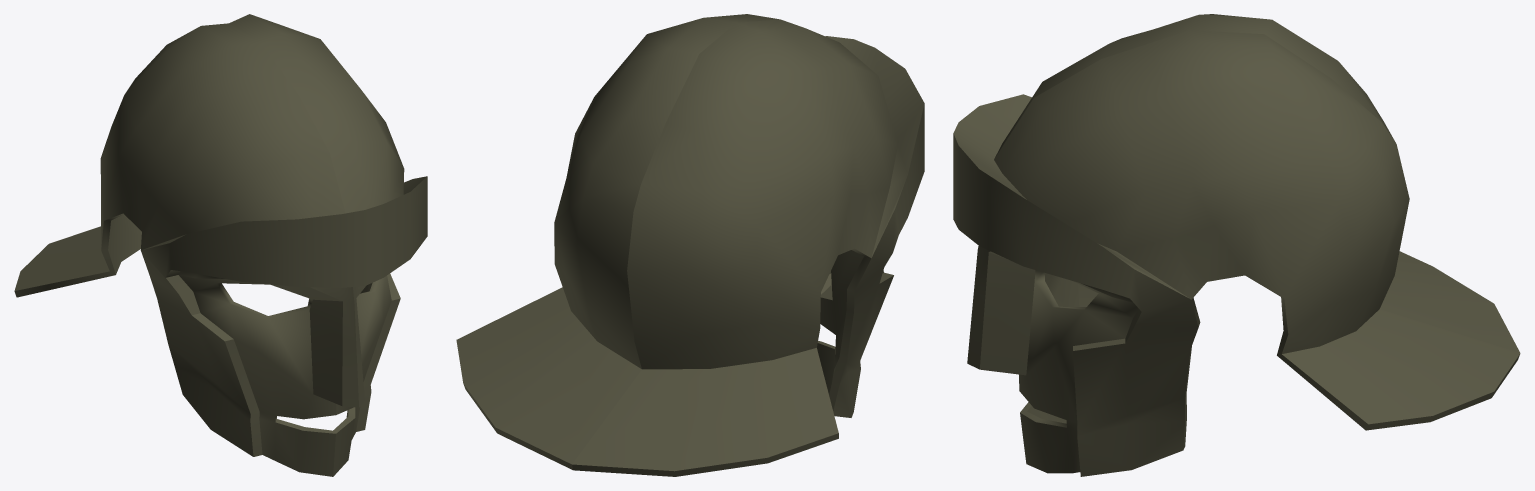
File: Helmet_1.fbx
3 renders of one model, left to right at view 1: azimuth 30°, elevation 25°; view 2: azimuth 150°, elevation 25°; view 3: azimuth 270°, elevation 25°, orthographic. The views are drawn at different scales.
Parts seen in each view (by area): view 1: Helmet_1; view 2: Helmet_1; view 3: Helmet_1.
Part boxes in pixels (x1,y1,x2,y2): Helmet_1: [14, 14, 427, 476]; Helmet_1: [456, 14, 924, 476]; Helmet_1: [953, 14, 1520, 476].
Size of the model in its own units: 27.47 by 29.7 by 35.07.
